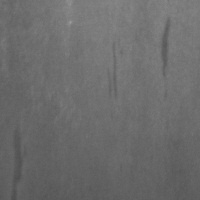inclusion: (7, 121, 28, 199), (154, 15, 175, 87), (103, 39, 124, 103)
